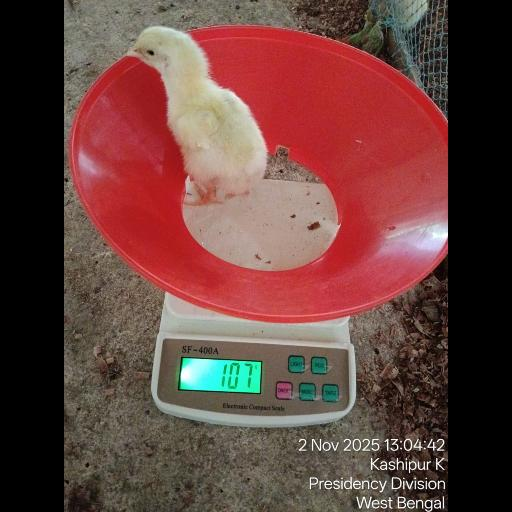chick: (125, 27, 268, 206)
